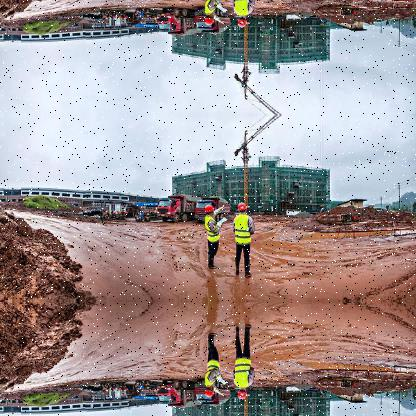helmet: (238, 200, 249, 213), (238, 14, 249, 27), (238, 387, 249, 400), (205, 202, 214, 213), (205, 14, 214, 25), (205, 387, 214, 398)
